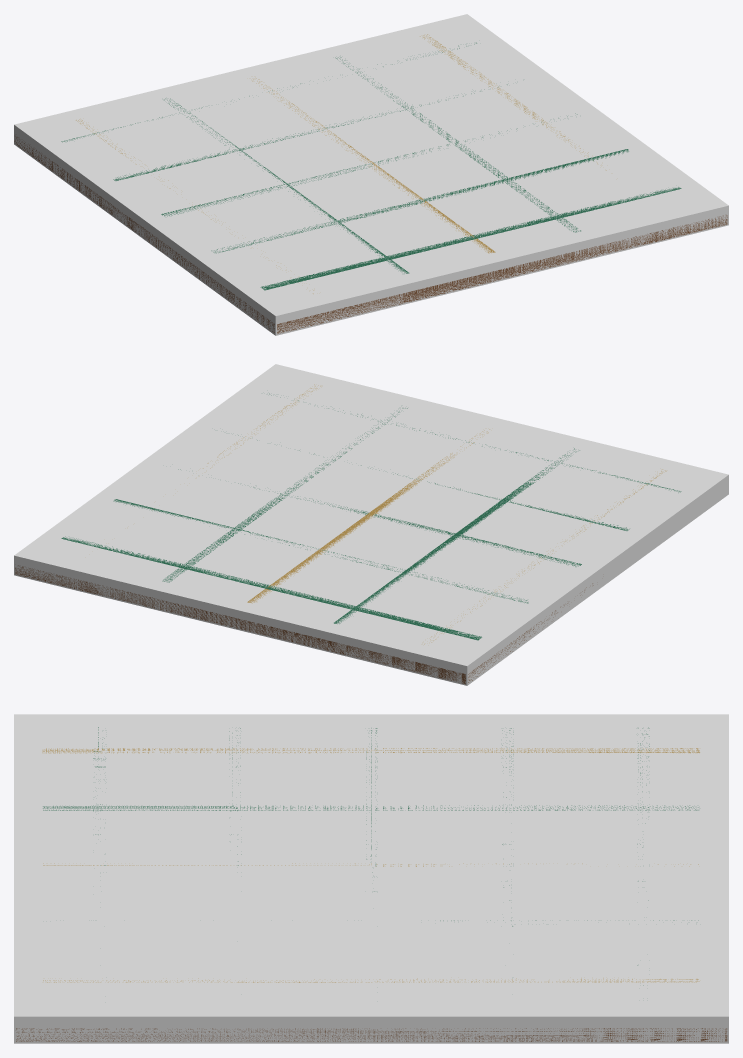
The model's file is ceiling-treatment_boutique.glb.
3 views of the same model, one above another, from view 1: azimuth 30°, elevation 25°; view 2: azimuth 150°, elevation 25°; view 3: azimuth 270°, elevation 25° (orthographic). The views are drawn at different scales.
Visible parts, largest first — view 1: COL_ceiling-treatment, MESH_FinishBase, MESH_CofferJoint, MESH_CofferJoint.001, MESH_FinishJoint.003, MESH_FinishJoint.002, MESH_FinishJoint.001, MESH_CofferJoint.002, MESH_CofferJoint.003; view 2: COL_ceiling-treatment, MESH_FinishBase, MESH_CofferJoint.004, MESH_FinishJoint.001, MESH_FinishJoint.002, MESH_FinishJoint.003, MESH_CofferJoint.002, MESH_CofferJoint.003; view 3: COL_ceiling-treatment, MESH_FinishBase, MESH_FinishJoint, MESH_FinishJoint.001.
Boxes of the visible parts, x1,y1,x2,y2 form: COL_ceiling-treatment: [14, 14, 728, 335]; MESH_FinishBase: [14, 136, 727, 333]; MESH_CofferJoint: [260, 187, 681, 290]; MESH_CofferJoint.001: [211, 149, 628, 253]; MESH_FinishJoint.003: [335, 57, 580, 232]; MESH_FinishJoint.002: [252, 78, 495, 253]; MESH_FinishJoint.001: [164, 98, 409, 273]; MESH_CofferJoint.002: [161, 113, 577, 216]; MESH_CofferJoint.003: [113, 84, 507, 180]; COL_ceiling-treatment: [14, 364, 728, 685]; MESH_FinishBase: [15, 565, 593, 684]; MESH_CofferJoint.004: [61, 536, 481, 640]; MESH_FinishJoint.001: [334, 448, 579, 623]; MESH_FinishJoint.002: [247, 429, 489, 603]; MESH_FinishJoint.003: [162, 408, 407, 582]; MESH_CofferJoint.002: [178, 469, 581, 566]; MESH_CofferJoint.003: [113, 499, 528, 603]; COL_ceiling-treatment: [14, 714, 728, 1043]; MESH_FinishBase: [16, 1028, 727, 1041]; MESH_FinishJoint: [42, 748, 699, 753]; MESH_FinishJoint.001: [43, 805, 698, 810].
Size of the model in its own units: 2.4 by 0.1 by 2.4.
